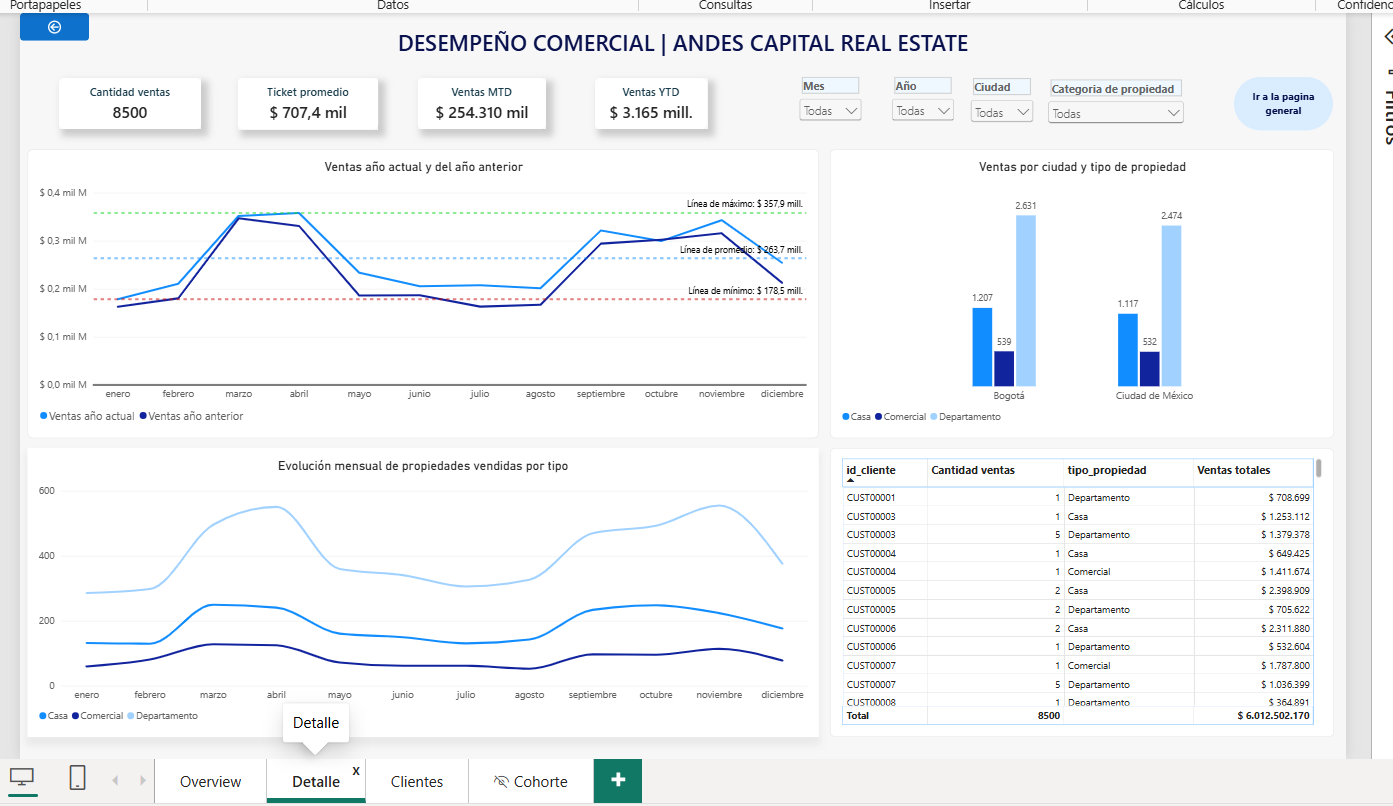

The dashboard page shown, as its layout file describes it:
{"tool":"powerbi","page":{"name":"Detalle","canvas":[1920,1080],"ordinal":1},"visuals":[{"type":"textbox","box":[533.1,20.6,852.1,78.2],"z":0},{"type":"cardVisual","fields":{"Data":["hecho_ventas_propiedades csv.Cantidad ventas"]},"box":[55.6,94.7,206.3,74.2],"z":1000},{"type":"cardVisual","fields":{"Data":["hecho_ventas_propiedades csv.Ventas MTD"]},"box":[576.3,94.7,186.4,74.2],"z":2000},{"type":"cardVisual","fields":{"Data":["hecho_ventas_propiedades csv.Ventas YTD"]},"box":[831.6,94.7,162.9,74.2],"z":3000},{"type":"slicer","fields":{"Values":["Dim_Fecha.Date.Variación.Jerarquía de fechas.Mes"]},"box":[1123.8,92.3,99.5,76],"z":4000},{"type":"slicer","fields":{"Values":["hecho_ventas_propiedades csv.ciudad"]},"box":[1371.7,94.1,100,74],"z":5000},{"type":"slicer","fields":{"Values":["dim_propiedades csv.categoria_propiedad"]},"box":[1483.9,95.9,206,74],"z":6000},{"type":"slicer","fields":{"Values":["Dim_Fecha.Date.Variación.Jerarquía de fechas.Año"]},"box":[1257.7,92.3,99.5,76],"z":10000},{"type":"cardVisual","fields":{"Data":["hecho_ventas_propiedades csv.Ticket promedio"]},"box":[314.9,94.7,204.2,74.9],"z":11000},{"type":"lineChart","title":"Ventas año actual y del año anterior  ","fields":{"Category":["Dim_Fecha.Date.Variación.Jerarquía de fechas.Mes"],"Y":["hecho_ventas_propiedades csv.Ventas año actual","hecho_ventas_propiedades csv.Ventas año anterior"]},"box":[10.9,197.3,1145.5,418],"z":12000},{"type":"clusteredColumnChart","title":"Ventas por ciudad y tipo de propiedad","fields":{"Category":["hecho_ventas_propiedades csv.ciudad"],"Series":["hecho_ventas_propiedades csv.tipo_propiedad"],"Y":["hecho_ventas_propiedades csv.Cantidad ventas"]},"box":[1172.7,197.3,729.3,418],"z":13000},{"type":"actionButton","box":[1757.2,92.3,144,78],"z":14000},{"type":"tableEx","fields":{"Values":["hecho_ventas_propiedades csv.id_cliente","hecho_ventas_propiedades csv.tipo_propiedad","hecho_ventas_propiedades csv.Cantidad ventas","hecho_ventas_propiedades csv.Ventas totales"]},"box":[1172.7,629.8,729.3,418],"z":15000},{"type":"actionButton","box":[0,0,100,40],"z":16000},{"type":"lineChart","title":"Evolución mensual de propiedades vendidas por tipo","fields":{"Category":["Dim_Fecha.Date.Variación.Jerarquía de fechas.Mes"],"Series":["hecho_ventas_propiedades csv.tipo_propiedad"],"Y":["hecho_ventas_propiedades csv.Propiedades vendidas"]},"box":[10.9,629.8,1145.5,418],"z":16001}]}

Visuals, with their boxes on the page's 1920x1080 design canvas (x1, y1, x2, y2). These are canvas units, not pixel positions in the 1393x806 screenshot, which may show the page scaled, cropped or inside an application window:
textbox: locate(533, 21, 1385, 99)
cardVisual - hecho_ventas_propiedades csv.Cantidad ventas: locate(56, 95, 262, 169)
cardVisual - hecho_ventas_propiedades csv.Ventas MTD: locate(576, 95, 763, 169)
cardVisual - hecho_ventas_propiedades csv.Ventas YTD: locate(832, 95, 994, 169)
slicer - Dim_Fecha.Date.Variación.Jerarquía de fechas.Mes: locate(1124, 92, 1223, 168)
slicer - hecho_ventas_propiedades csv.ciudad: locate(1372, 94, 1472, 168)
slicer - dim_propiedades csv.categoria_propiedad: locate(1484, 96, 1690, 170)
slicer - Dim_Fecha.Date.Variación.Jerarquía de fechas.Año: locate(1258, 92, 1357, 168)
cardVisual - hecho_ventas_propiedades csv.Ticket promedio: locate(315, 95, 519, 170)
"Ventas año actual y del año anterior  " lineChart: locate(11, 197, 1156, 615)
"Ventas por ciudad y tipo de propiedad" clusteredColumnChart: locate(1173, 197, 1902, 615)
actionButton: locate(1757, 92, 1901, 170)
tableEx - hecho_ventas_propiedades csv.id_cliente x hecho_ventas_propiedades csv.tipo_propiedad: locate(1173, 630, 1902, 1048)
actionButton: locate(0, 0, 100, 40)
"Evolución mensual de propiedades vendidas por tipo" lineChart: locate(11, 630, 1156, 1048)
